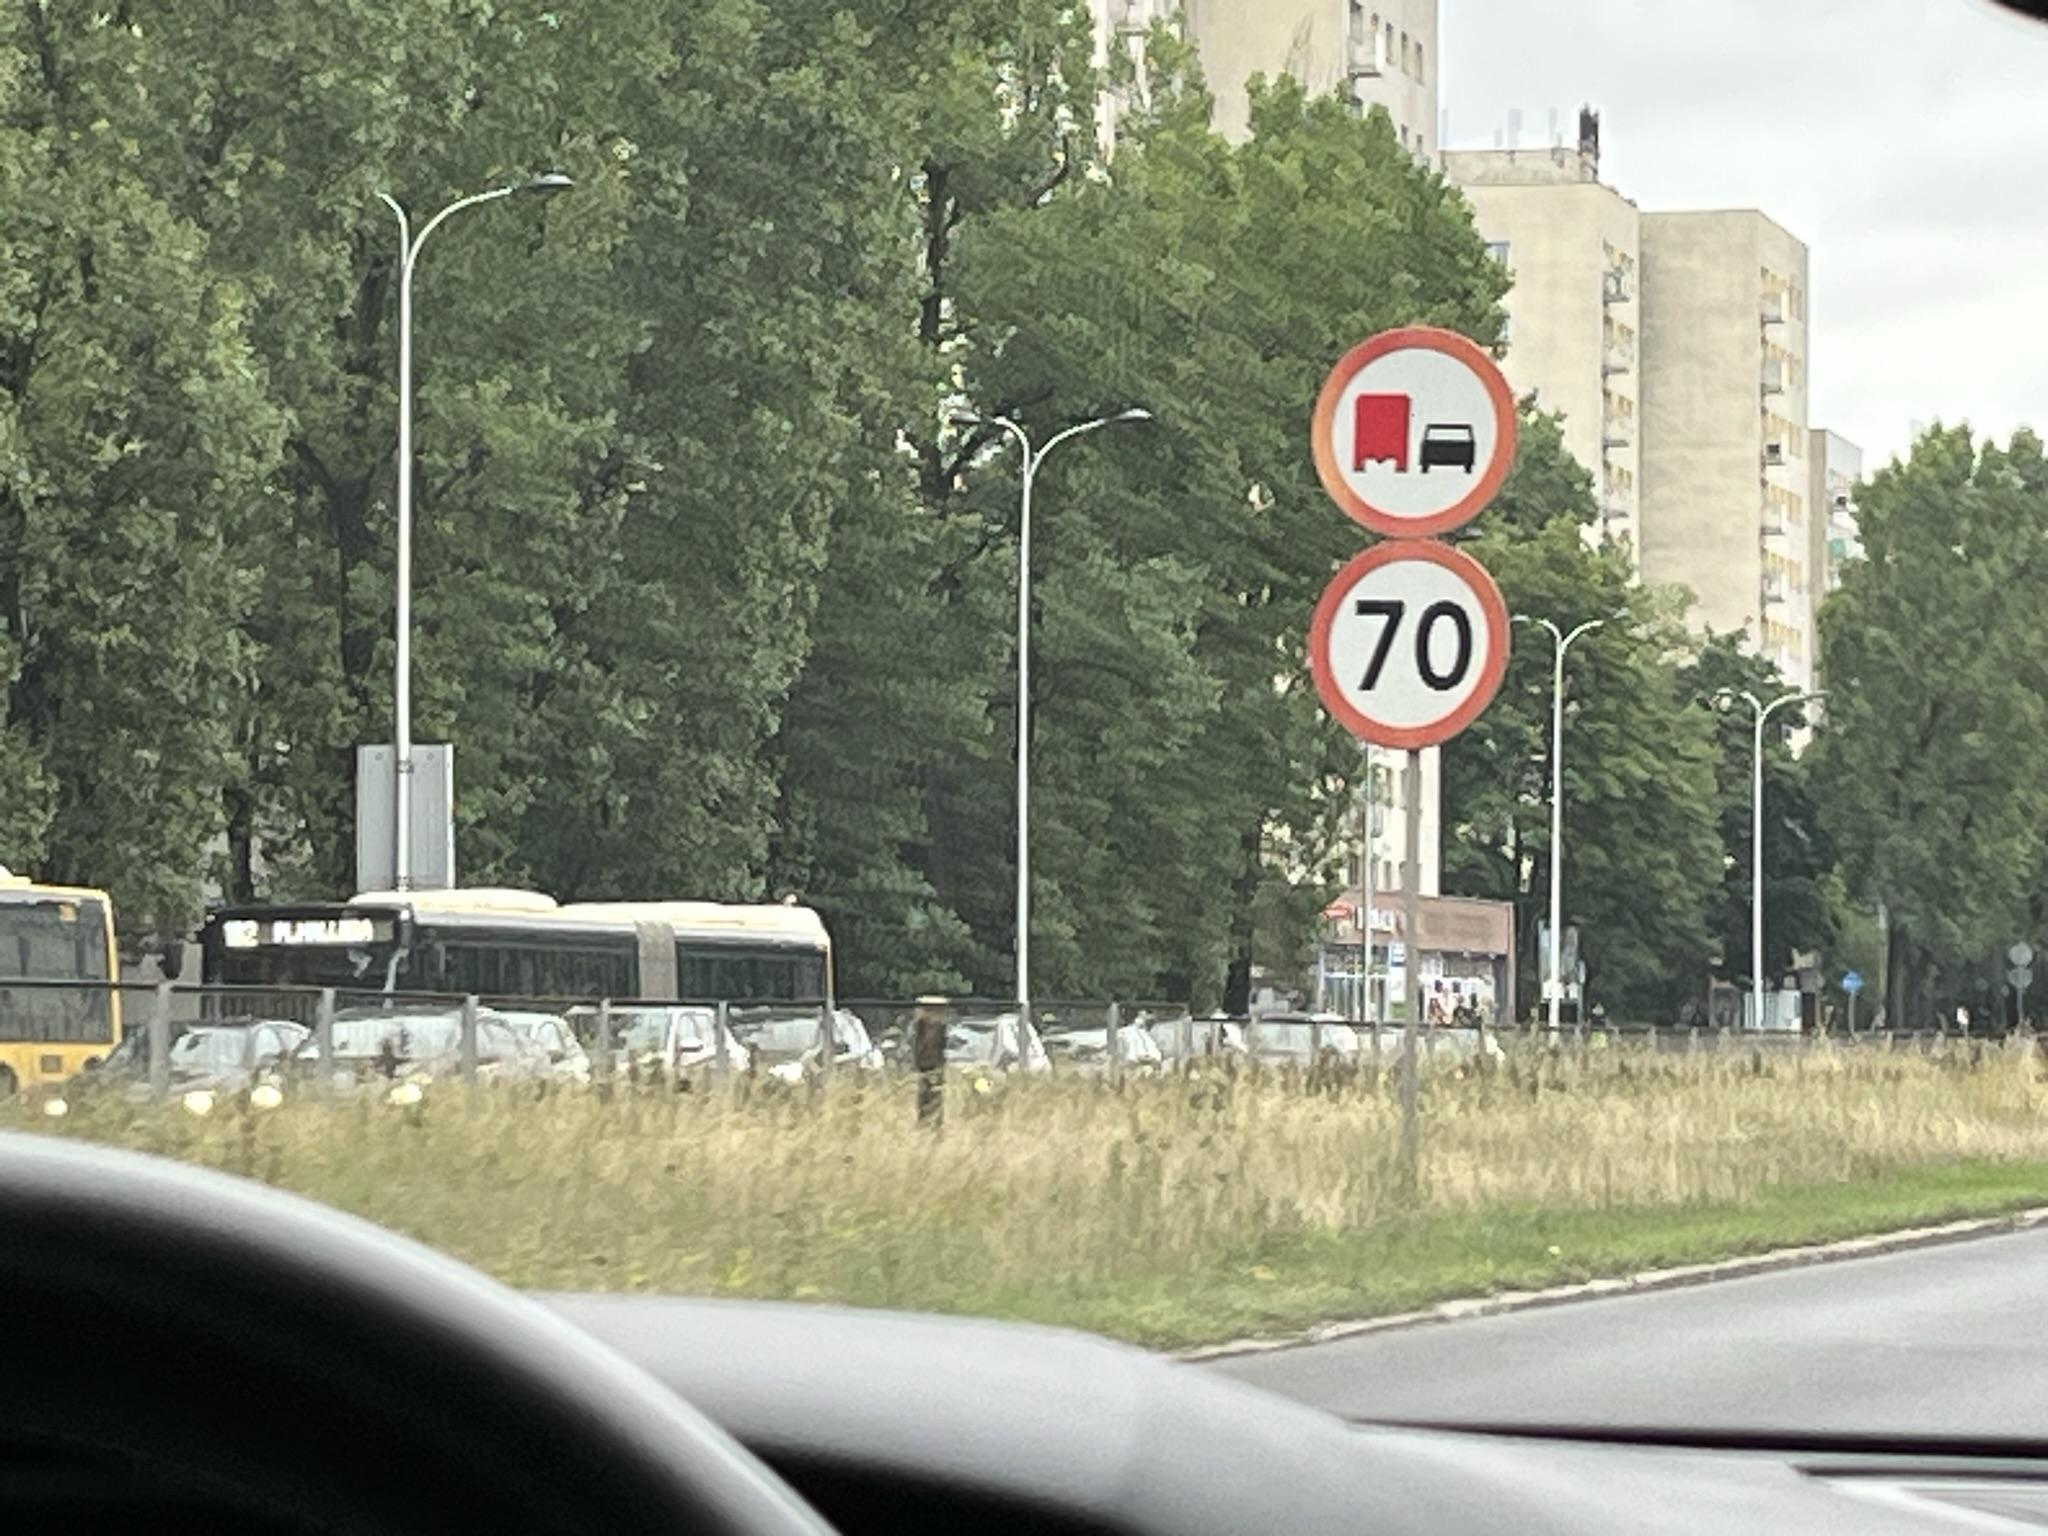prohibitory: (1308, 324, 1519, 542), (1308, 537, 1514, 750)
